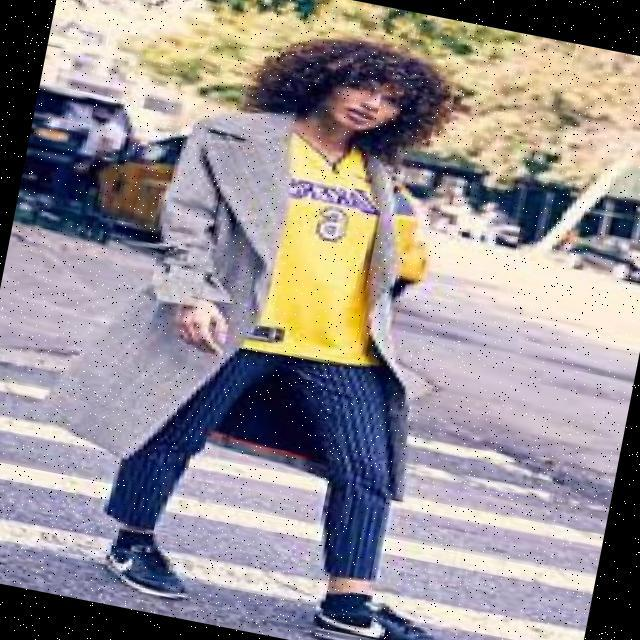Nike: (317, 605, 395, 638), (107, 546, 142, 574)
